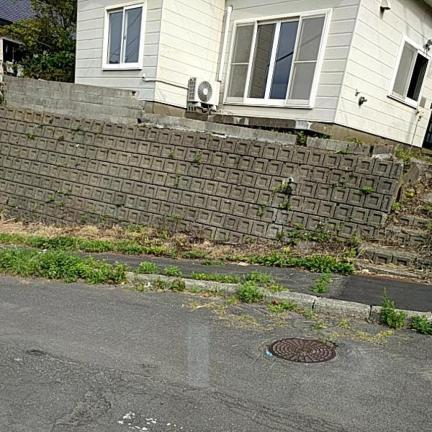Road: (0, 278, 431, 431)
